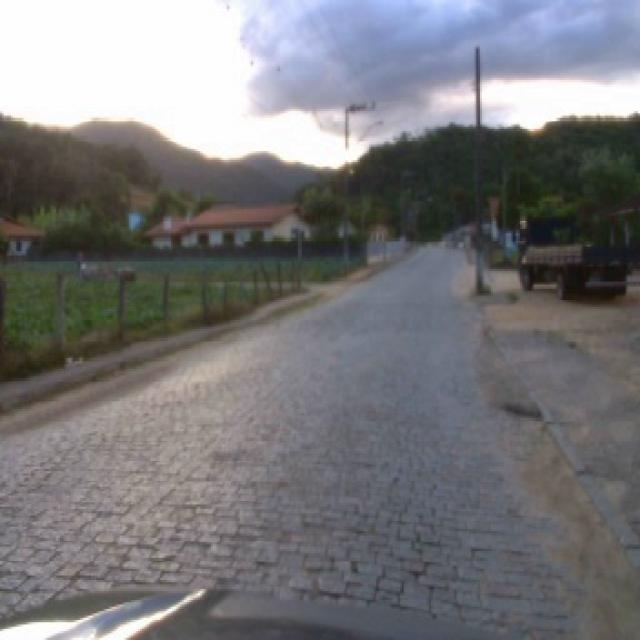Poth-hole: (498, 398, 544, 420)
